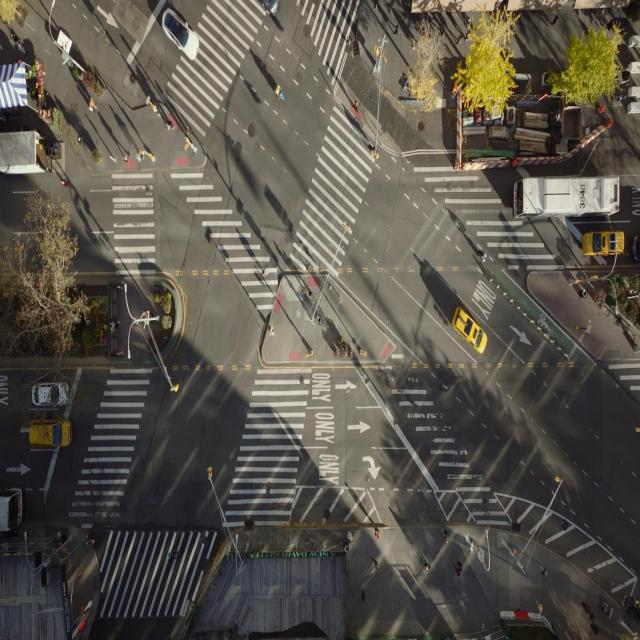Car: (444, 300, 495, 366), (148, 8, 202, 70), (22, 420, 84, 453), (24, 380, 85, 410)
